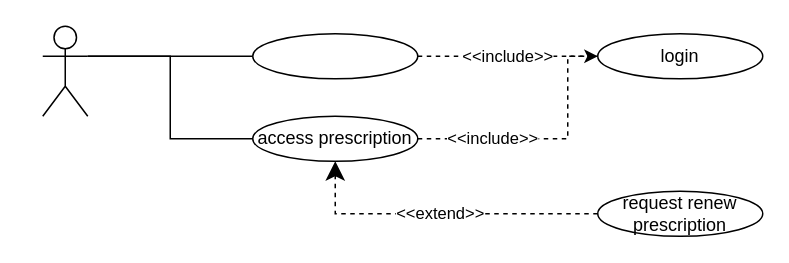
This 789x263 diagram has some shape labels left out. Each missing label, with the centre of its shape:
"Customer" belongs at pixel 64 70.
"make appointment" belongs at pixel 334 55.
